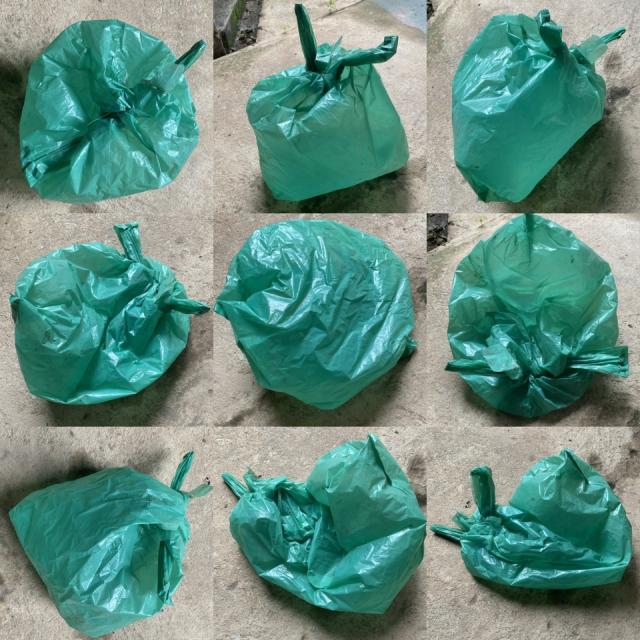Single-layer Plastic: (215, 220, 415, 409), (10, 451, 212, 637), (446, 214, 629, 417), (221, 435, 426, 613), (10, 222, 208, 404), (20, 20, 206, 204), (452, 10, 625, 202), (246, 4, 409, 201), (430, 449, 631, 589)
